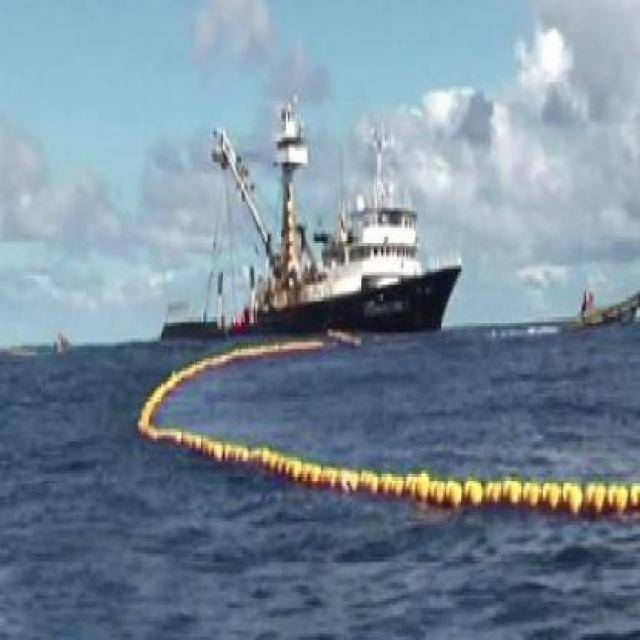fish-b: (134, 85, 474, 346)
